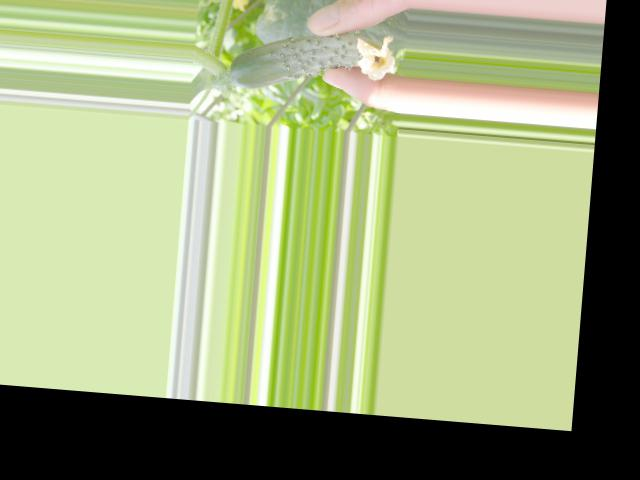cucumber: (227, 23, 397, 99)
